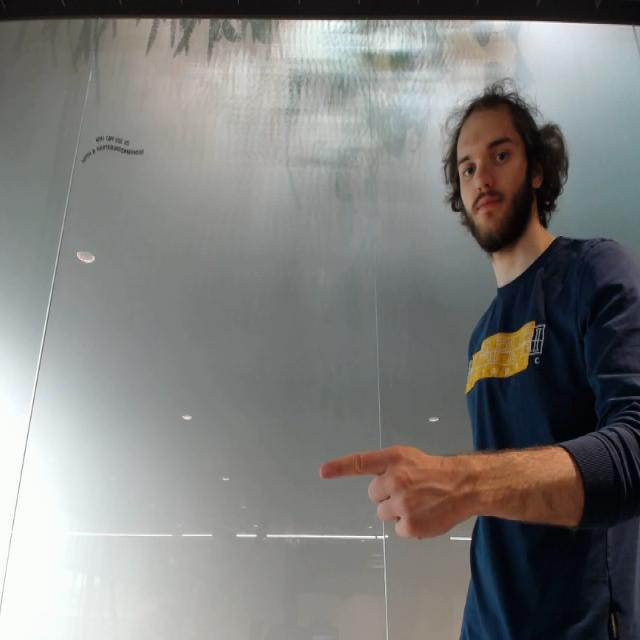left: (314, 438, 468, 543)
